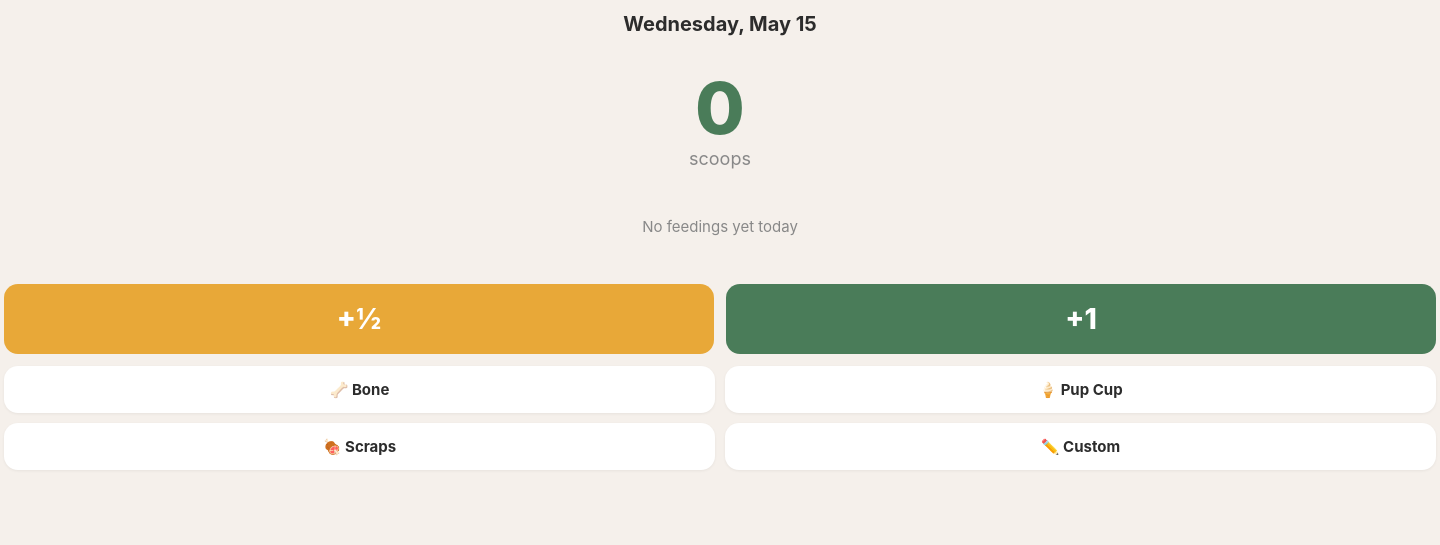
Today › custom input visibility › scrolls the input into view when the Custom toggle is opened
This screenshot has width=1440, height=545.
expect the text "No feedings yet today" is shown: met, box top-left (642, 217), bottom-right (798, 236)
What coordinates should you click on to do the following:
click the button "✏️ Custom"
I would click on:
 (1080, 446)
Its box is top-left (725, 423), bottom-right (1436, 470).
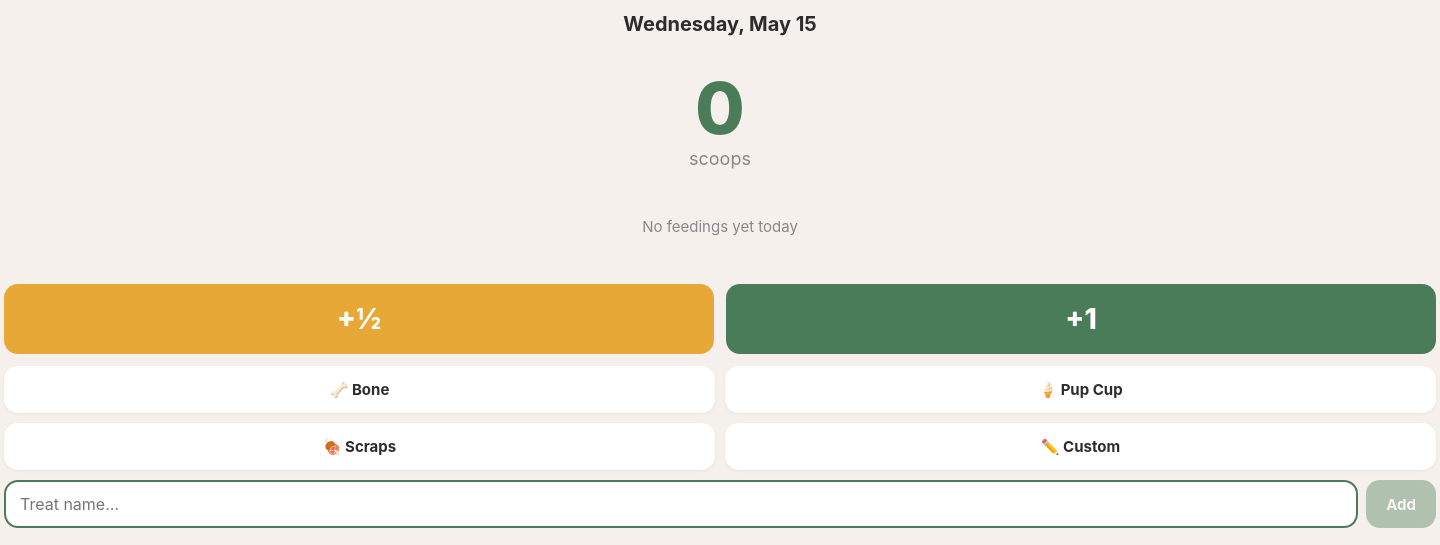
expect the field with placeholder "Treat name…" is shown: met, box top-left (4, 480), bottom-right (1358, 528)
